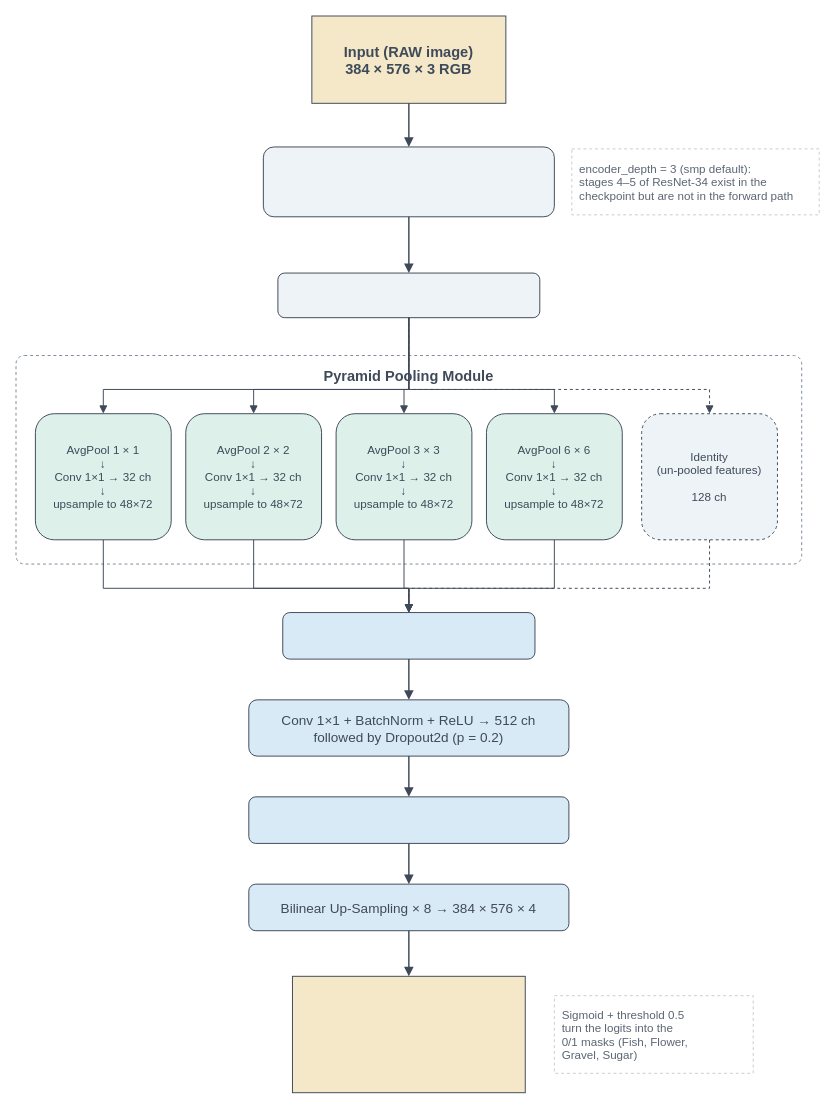
Some shapes in this 835 by 1109 pixel diagram are drawn without their labels. The shapes that lost their labels are listed below. From the top down, each one's centre as x and y in pixels, then its label:
the point at 408,181: ResNet-34 encoder — stages 1–3 (ImageNet pre-trained)
the point at 408,295: Feature map 48 × 72 × 128 (stride 8)
the point at 408,635: Concat → 48 × 72 × 256
the point at 408,819: Segmentation head: Conv 3×3 → 48 × 72 × 4
the point at 408,1034: Output 384 × 576 × 4 (the 4 predicted masks)
